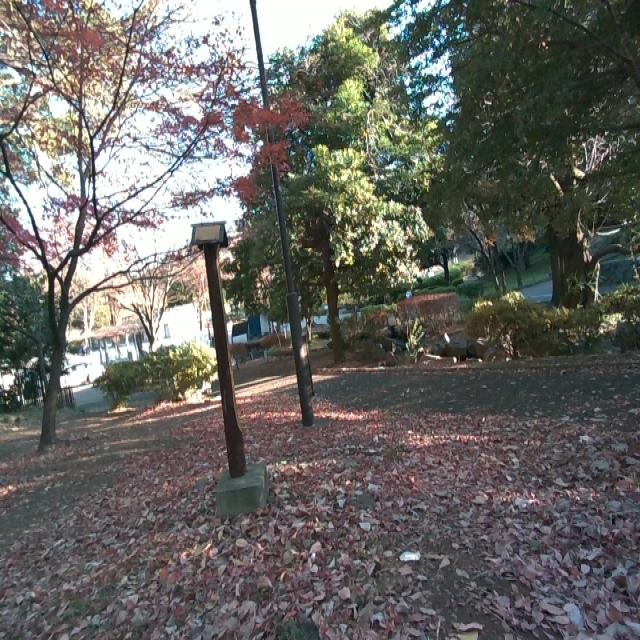artifact: (186, 218, 272, 500)
bush: (467, 293, 640, 359), (99, 337, 212, 406), (322, 309, 436, 369)
tree: (0, 0, 183, 443), (249, 0, 330, 420)
